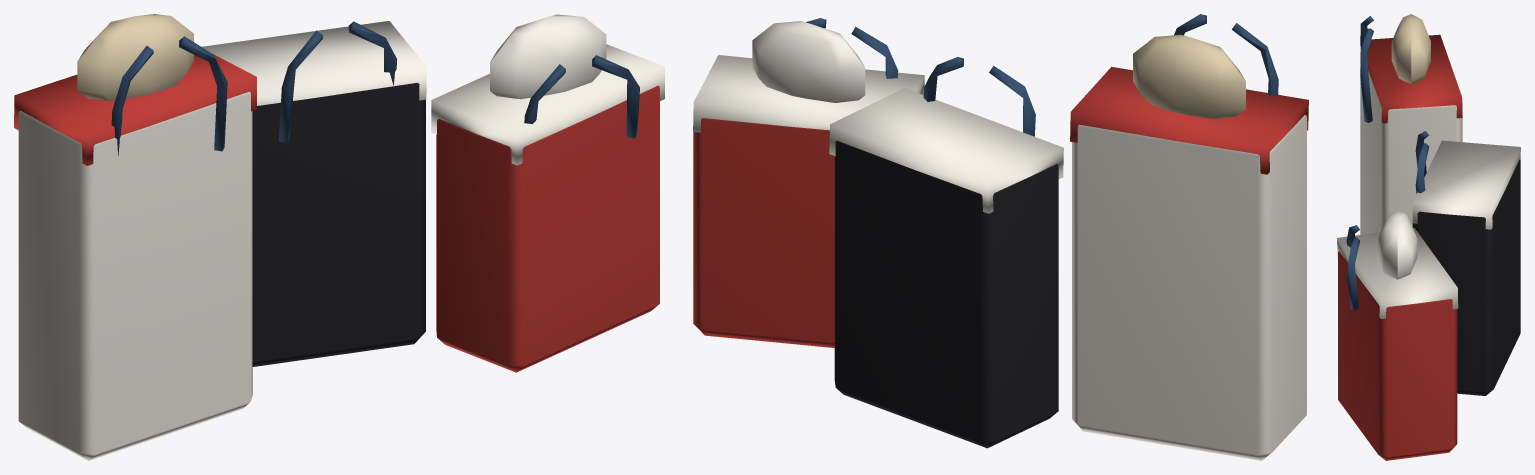
Rendered from shopping_bags.glb.
3 renders of one model, left to right at view 1: azimuth 30°, elevation 25°; view 2: azimuth 150°, elevation 25°; view 3: azimuth 270°, elevation 25°, orthographic. The views are drawn at different scales.
Visible parts, largest first — view 1: shopping_bags; view 2: shopping_bags; view 3: shopping_bags.
Boxes of the visible parts, <box> form: shopping_bags: <box>14,14,664,460</box>; shopping_bags: <box>693,14,1308,460</box>; shopping_bags: <box>1337,14,1520,460</box>.
Bounding box in the file's own units: 0.6961 × 0.44 × 0.2664.
